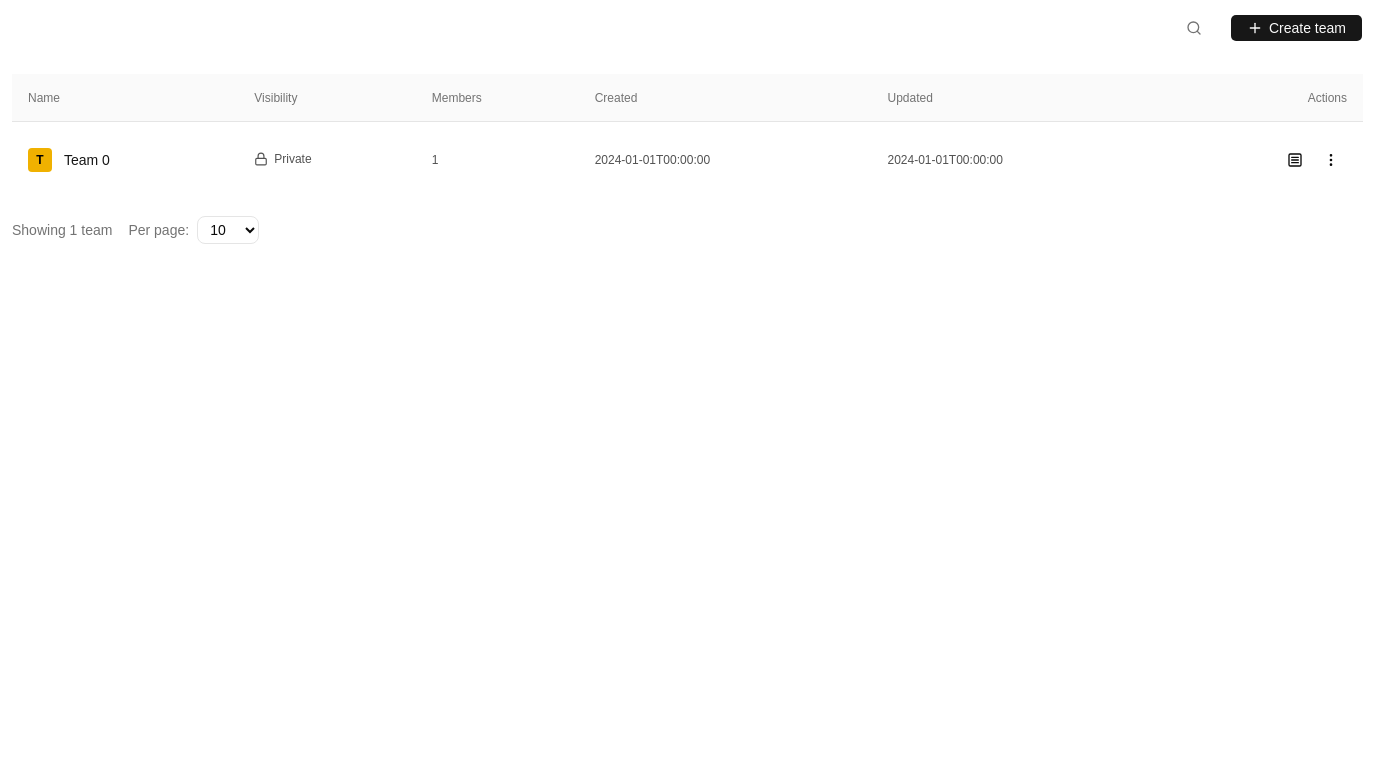
Test case: Teams › opens the edit form pre-filled when Edit is clicked
expect the text "Team 0" is shown: met, box [64,150,110,170]
Click the button named "Actions for Team 0".
click(1331, 160)  # box [1315,144,1347,176]
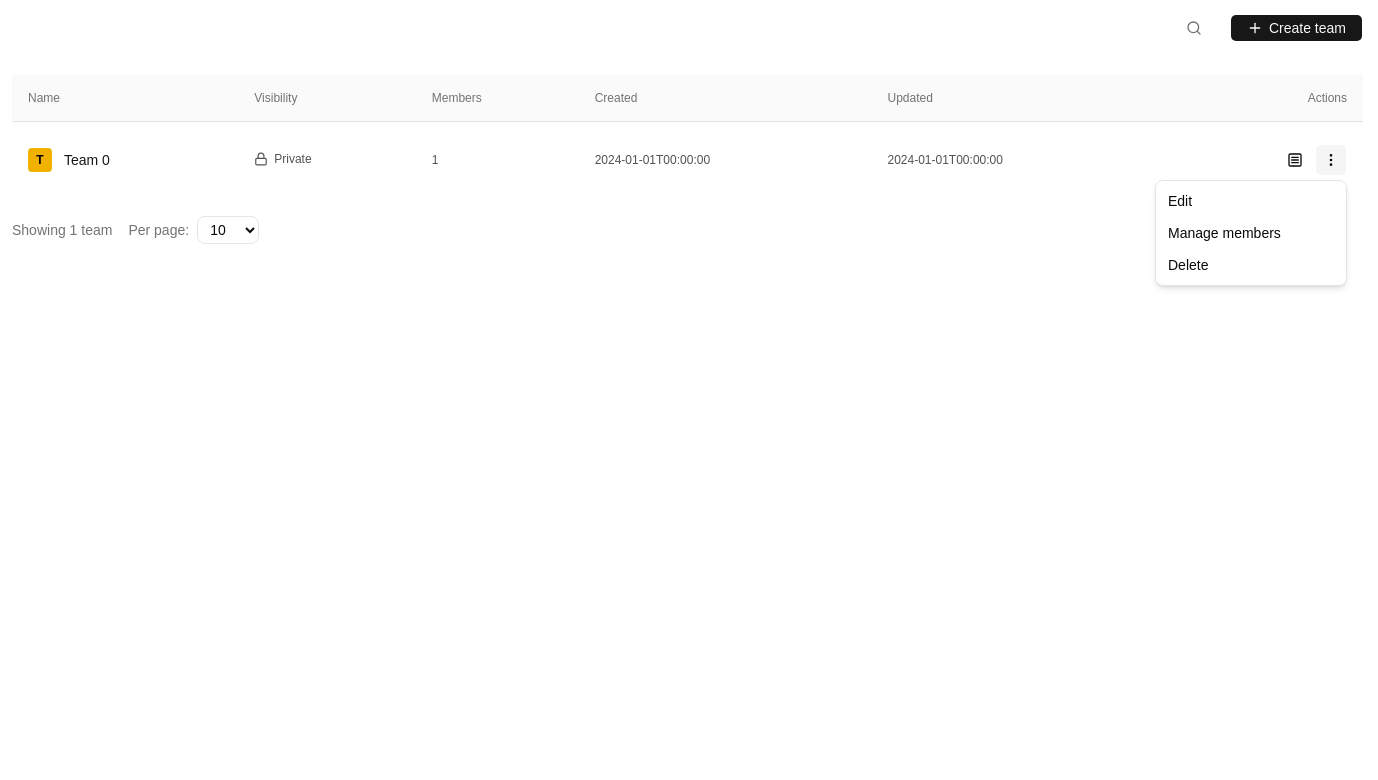
Click the menu item "Edit".
click(1180, 201)  # box [1168,193,1192,209]
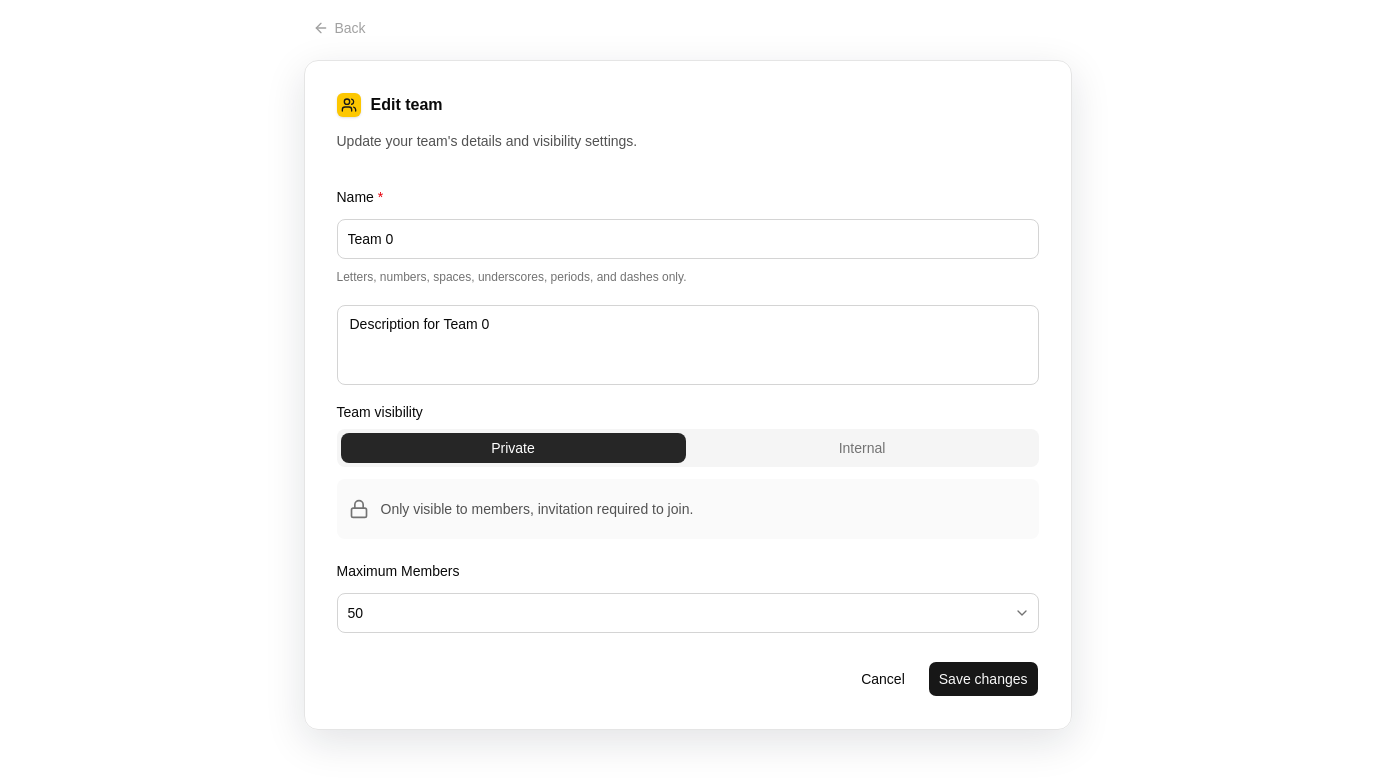
expect the heading "Edit team" is shown: met, box [370,93,442,117]
expect the field with placeholder "Add team name..." holds "Team 0": met, box [336,219,1038,259]
expect the button "Save changes" is shown: met, box [928,661,1038,697]
